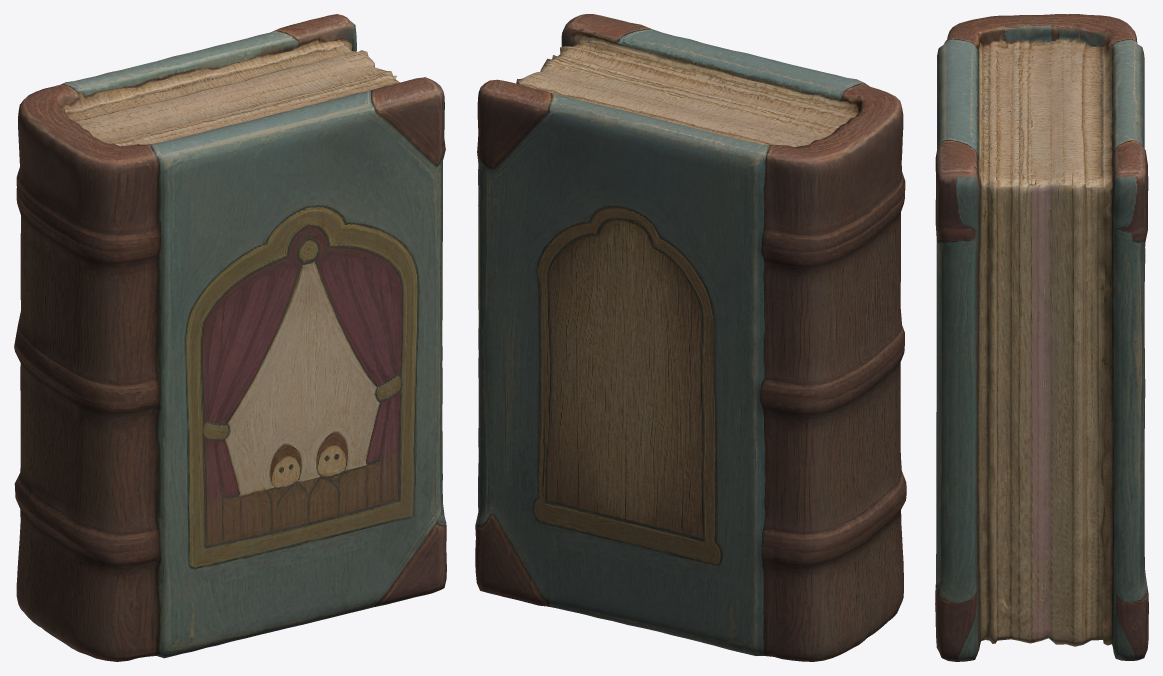
Rendered from Prop_PuppetBook.fbx.
The picture shows the model from 3 angles, left to right: view 1: azimuth 30°, elevation 25°; view 2: azimuth 150°, elevation 25°; view 3: azimuth 270°, elevation 25°; orthographic projection. The views are drawn at different scales.
Visible parts, largest first — view 1: texture_mapping; view 2: texture_mapping; view 3: texture_mapping.
Boxes of the visible parts, left/top/right/bottom form: texture_mapping: left=14, top=14, right=446, bottom=661; texture_mapping: left=475, top=14, right=906, bottom=661; texture_mapping: left=935, top=14, right=1148, bottom=661.
Bounding box in the file's own units: 0.7284 × 0.3942 × 1.
Materials: 1 (1 with a texture image).
